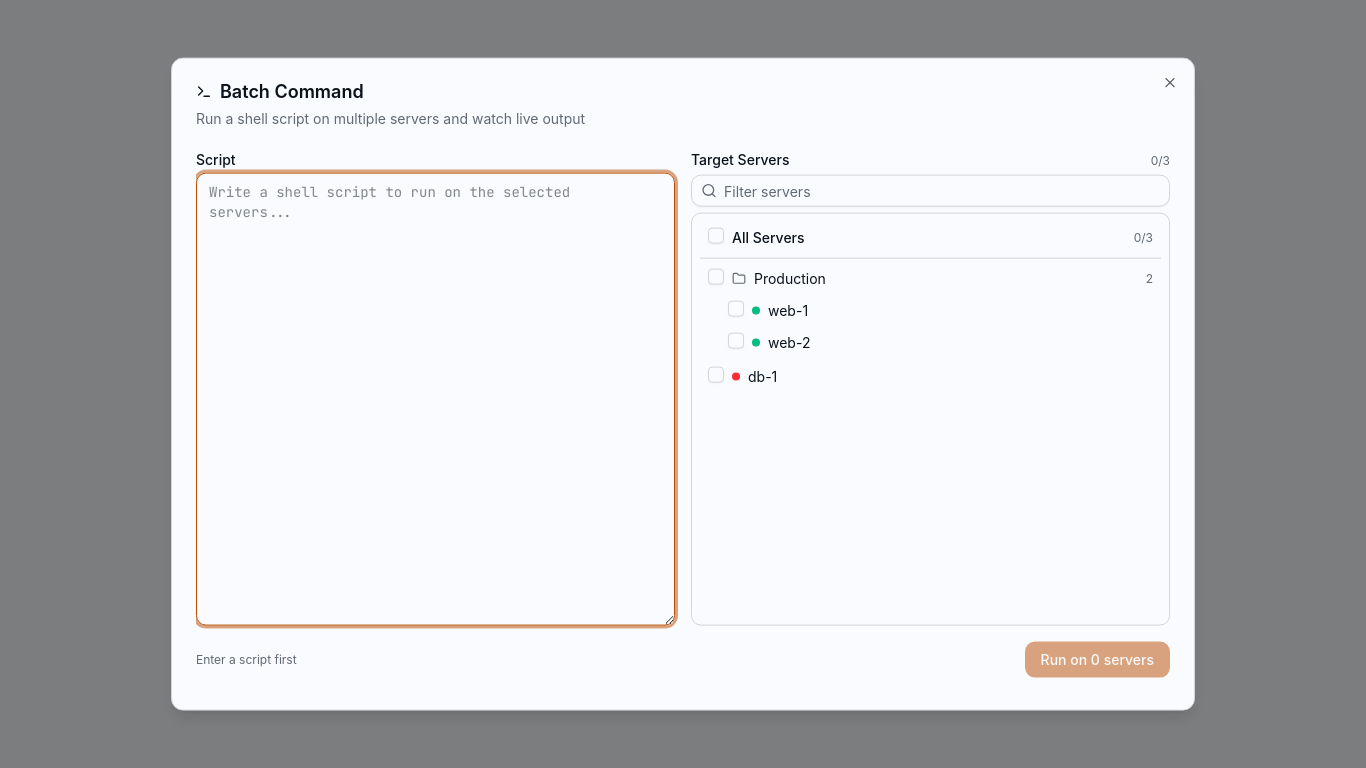
Scenario: BatchCommandDialog › renders a Group indeterminate when only some members are selected
The image size is (1366, 768).
Expected: the text "Production" is shown, [754,269,826,289]
Click the text "web-1": coordinates (788, 311) [768,301,808,321]
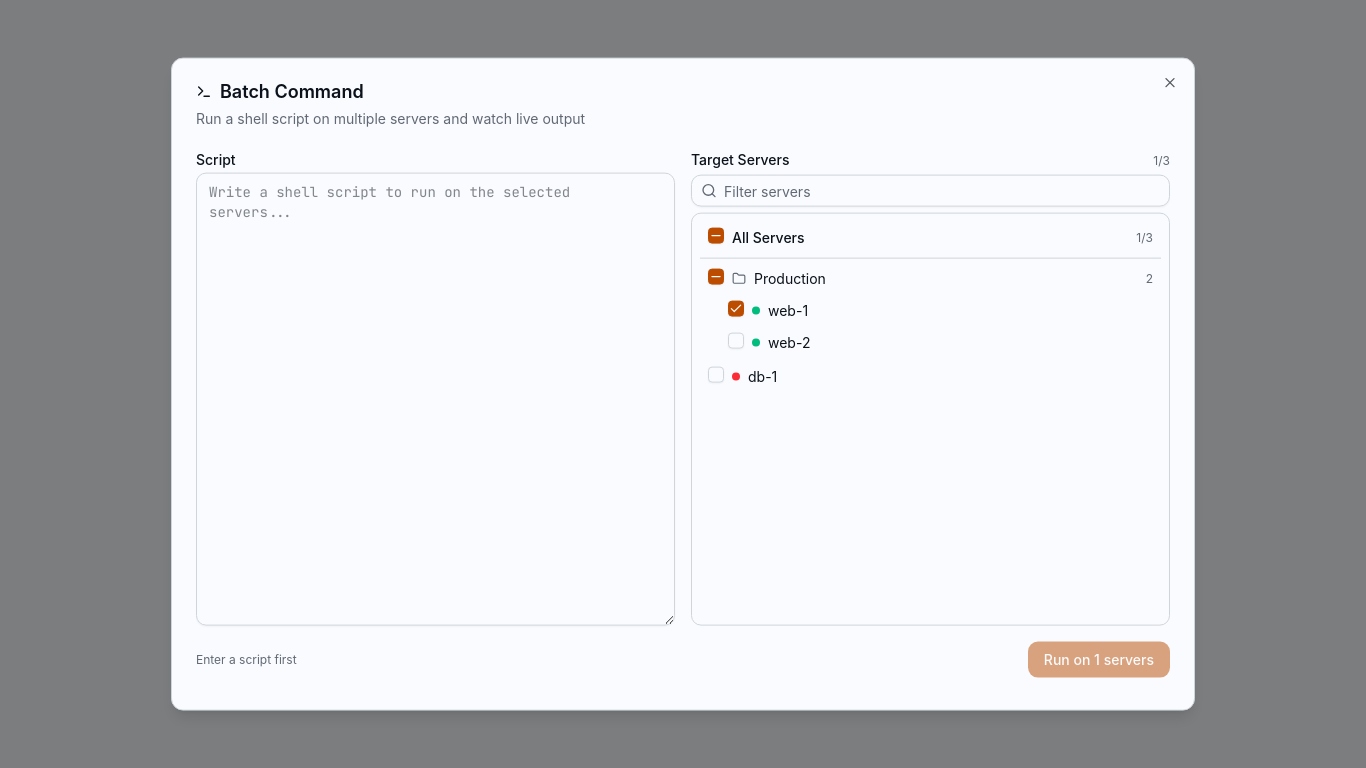
In the text box labelled "Script": coordinates (436, 399) [196,173,675,625], type "echo hi"
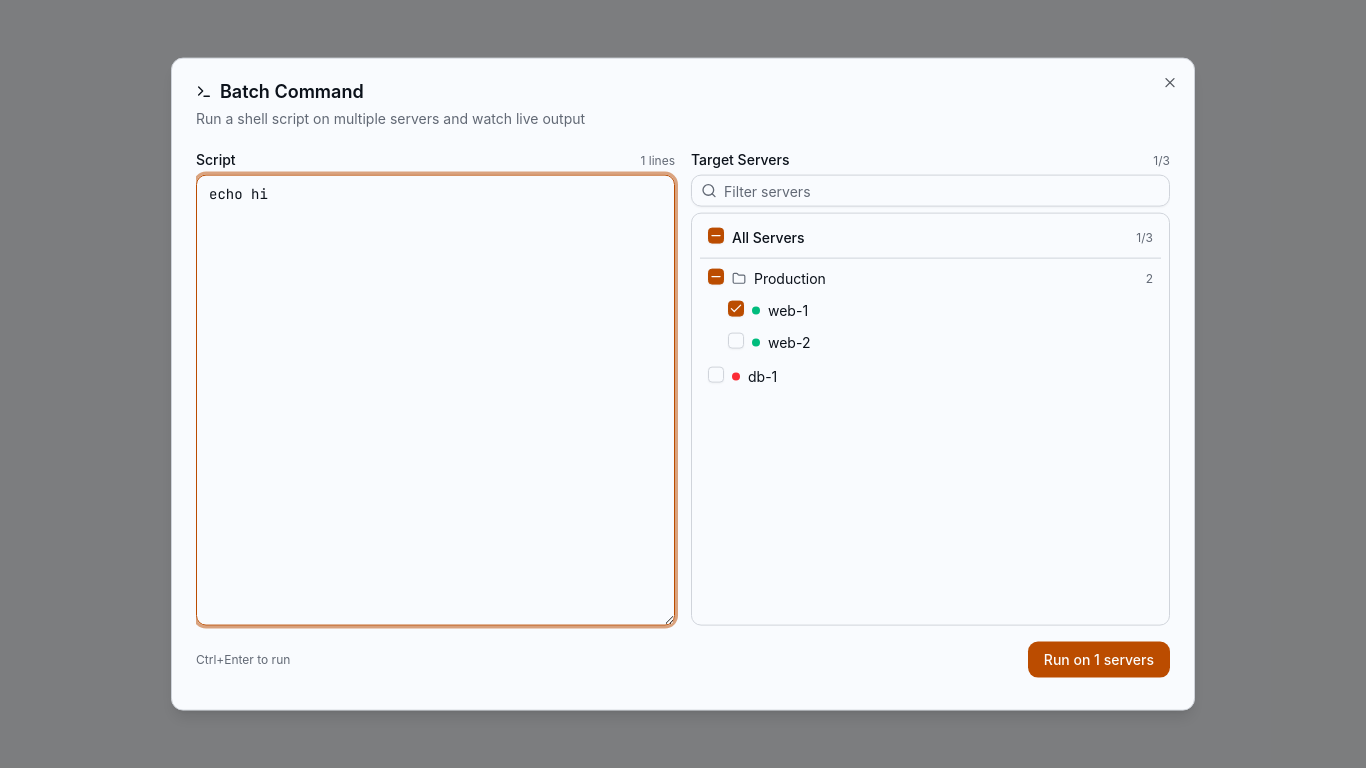
Now the button "Run on 1 servers" is enabled, box [1028,641,1170,677]
